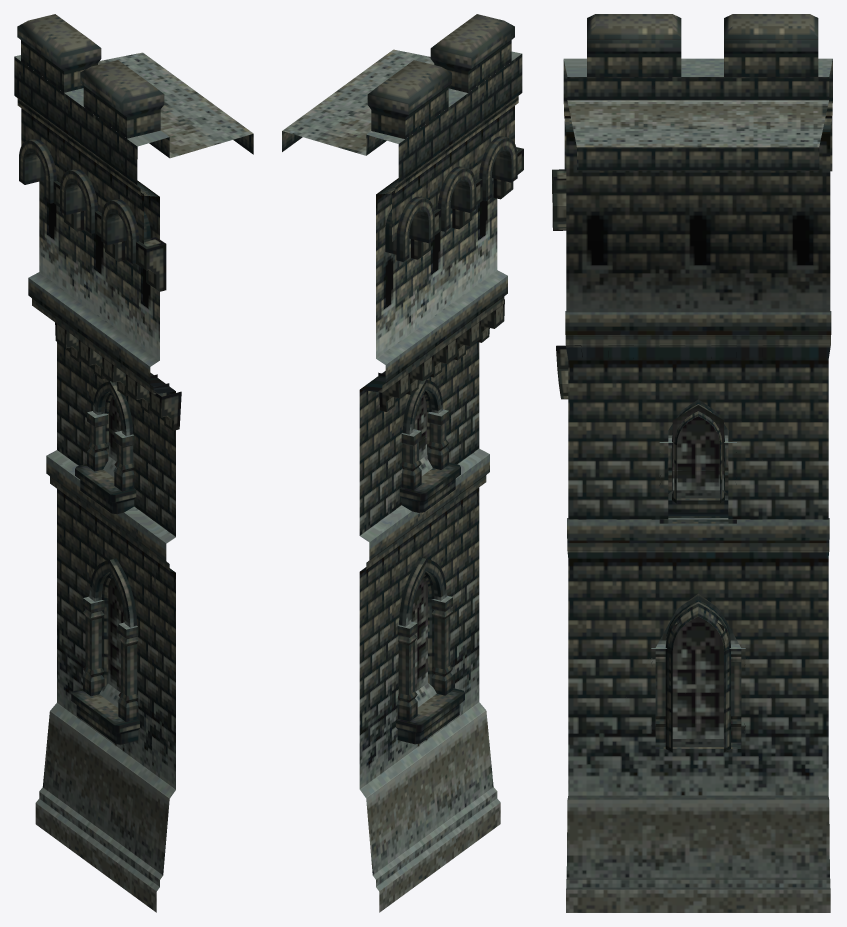
The model's file is EnvBdgMD_Castle_Raimei_A_SyokeiTower_100K.FBX.
The picture shows the model from 3 angles, left to right: view 1: azimuth 30°, elevation 25°; view 2: azimuth 150°, elevation 25°; view 3: azimuth 270°, elevation 25°; orthographic projection. The views are drawn at different scales.
Parts seen in each view (by area): view 1: EnvBdgMD_Castle_Raimei_A_SyokeiTower_100K; view 2: EnvBdgMD_Castle_Raimei_A_SyokeiTower_100K; view 3: EnvBdgMD_Castle_Raimei_A_SyokeiTower_100K.
Boxes of the visible parts, x1,y1,x2,y2 form: EnvBdgMD_Castle_Raimei_A_SyokeiTower_100K: (14,14,253,912); EnvBdgMD_Castle_Raimei_A_SyokeiTower_100K: (282,14,523,912); EnvBdgMD_Castle_Raimei_A_SyokeiTower_100K: (552,14,832,912).
Size of the model in its own units: 185 by 1145 by 328.
